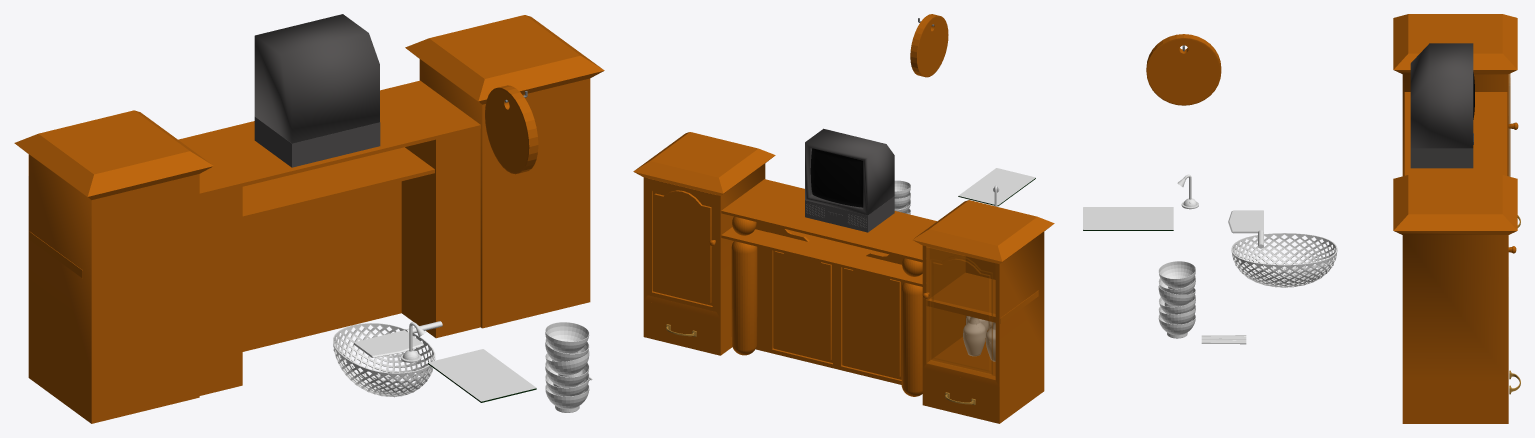
File: Misc.fbx
3 renders of one model, left to right at view 1: azimuth 30°, elevation 25°; view 2: azimuth 150°, elevation 25°; view 3: azimuth 270°, elevation 25°, orthographic. The views are drawn at different scales.
Parts seen in each view (by area): view 1: Cabinet, TV, Basket, ChoppingBoard, Cube.030, Knife, Bowl.005, Bowl.002, Bowl.003; view 2: Cabinet, CabinetDoor, TV, ChoppingBoard, Cube.030; view 3: Cabinet, TV, ChoppingBoard, Basket, Cube.030, Knife, Bowl.005, Bowl.002, Bowl.003.
Boxes of the visible parts, x1=… form: Cabinet: x1=14, y1=15, x2=604, y2=423; TV: x1=254, y1=14, x2=380, y2=167; Basket: x1=333, y1=323, x2=435, y2=397; ChoppingBoard: x1=485, y1=85, x2=538, y2=174; Cube.030: x1=428, y1=349, x2=536, y2=402; Knife: x1=354, y1=321, x2=442, y2=357; Bowl.005: x1=545, y1=322, x2=589, y2=353; Bowl.002: x1=545, y1=384, x2=589, y2=412; Bowl.003: x1=545, y1=349, x2=589, y2=377; Cabinet: x1=633, y1=132, x2=1054, y2=423; CabinetDoor: x1=922, y1=246, x2=995, y2=379; TV: x1=805, y1=128, x2=894, y2=232; ChoppingBoard: x1=910, y1=14, x2=948, y2=77; Cube.030: x1=958, y1=168, x2=1035, y2=206; Cabinet: x1=1393, y1=14, x2=1517, y2=423; TV: x1=1410, y1=43, x2=1474, y2=168; ChoppingBoard: x1=1146, y1=34, x2=1221, y2=105; Basket: x1=1231, y1=233, x2=1337, y2=287; Cube.030: x1=1083, y1=207, x2=1173, y2=230; Knife: x1=1228, y1=210, x2=1263, y2=248; Bowl.005: x1=1158, y1=261, x2=1195, y2=289; Bowl.002: x1=1158, y1=314, x2=1195, y2=338; Bowl.003: x1=1158, y1=285, x2=1195, y2=306.
Bounding box in the file's own units: 2692 × 1782 × 2337.
